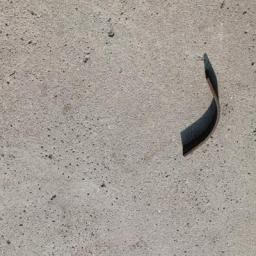FOD: (175, 67, 227, 163)
